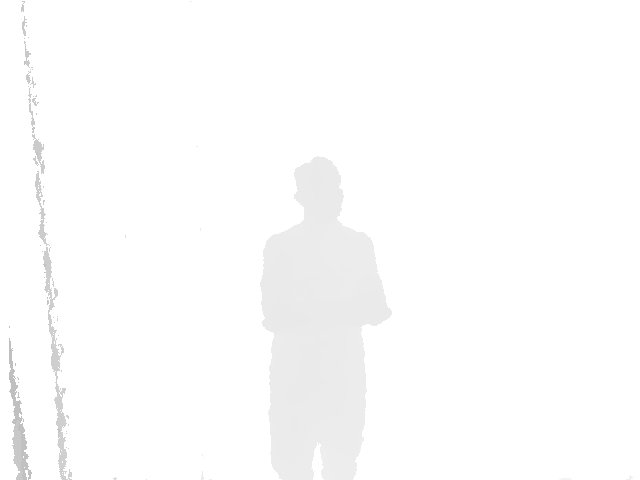head: (293, 155, 345, 218)
person: (259, 155, 394, 480)
